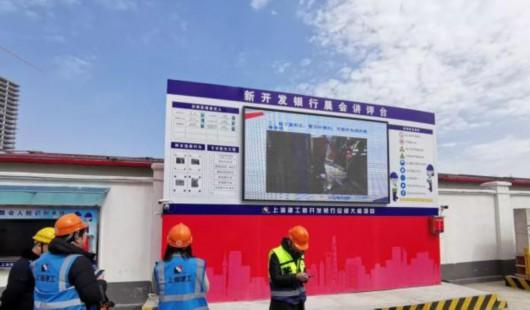helmet: (53, 213, 89, 236), (166, 225, 195, 249), (288, 226, 313, 251), (31, 229, 58, 243)
